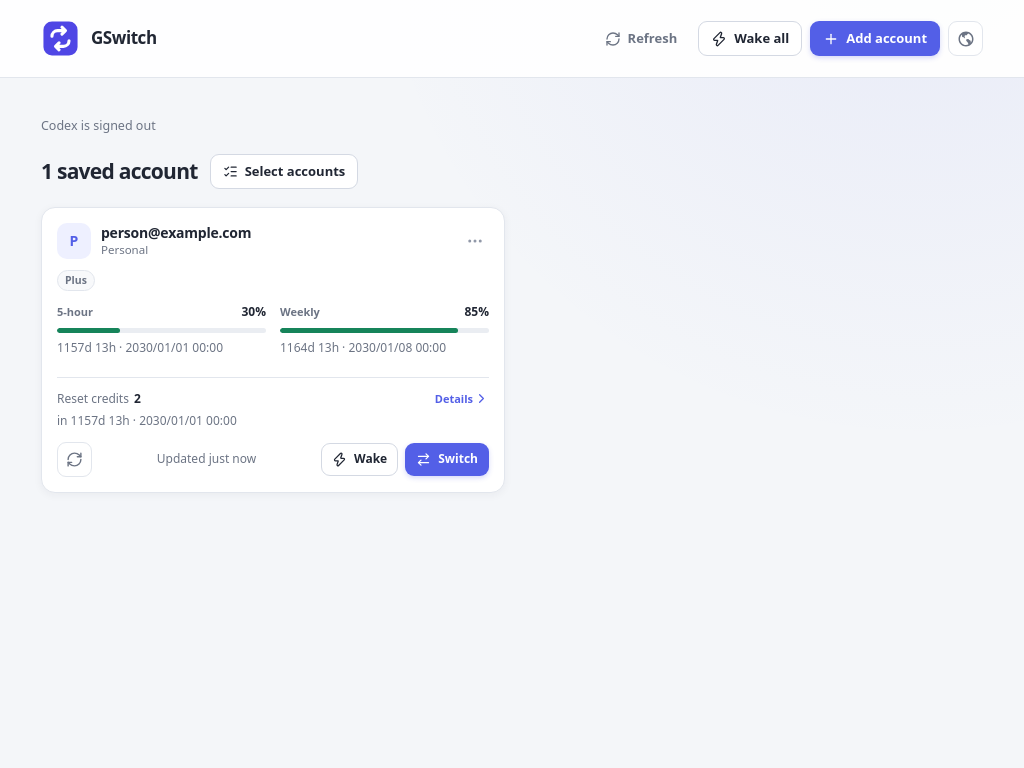
GSwitch account workspace › keeps the reset dialog closable while a full refresh runs
Expected: the heading "person@example.com" is shown, [101,224,251,242]
Step 1. Click the button "Refresh" → {"x": 641, "y": 38}, box [592,21,690,56]
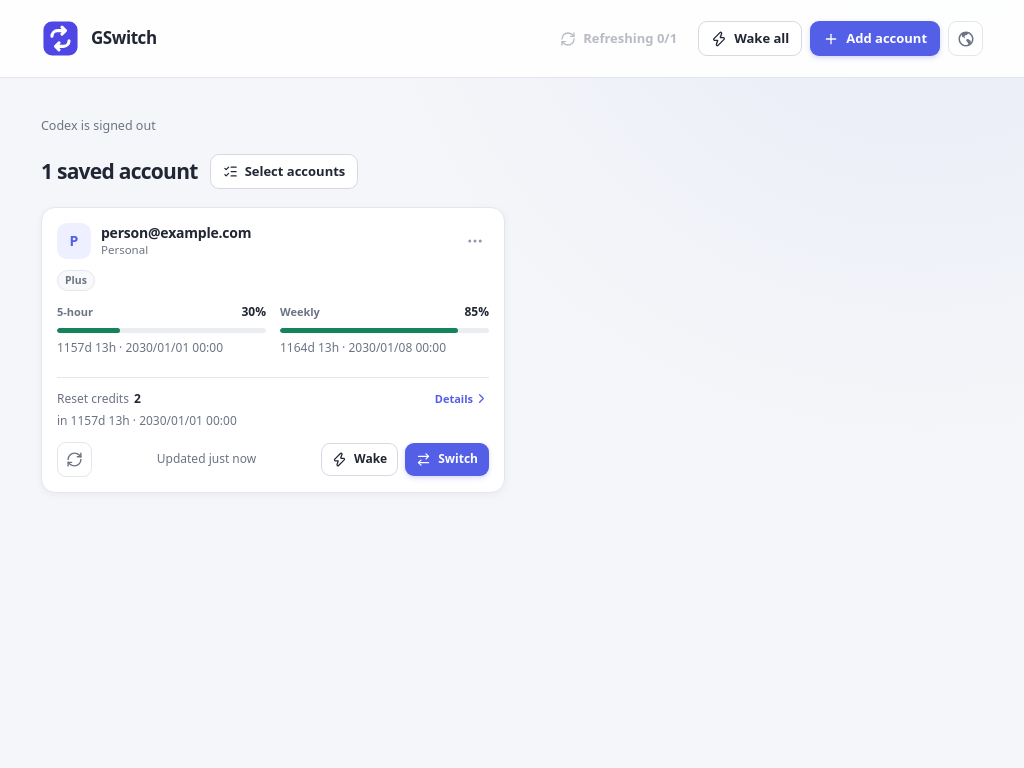
Step 2. Click the button "Details" → {"x": 462, "y": 398}, box [435,391,489,406]
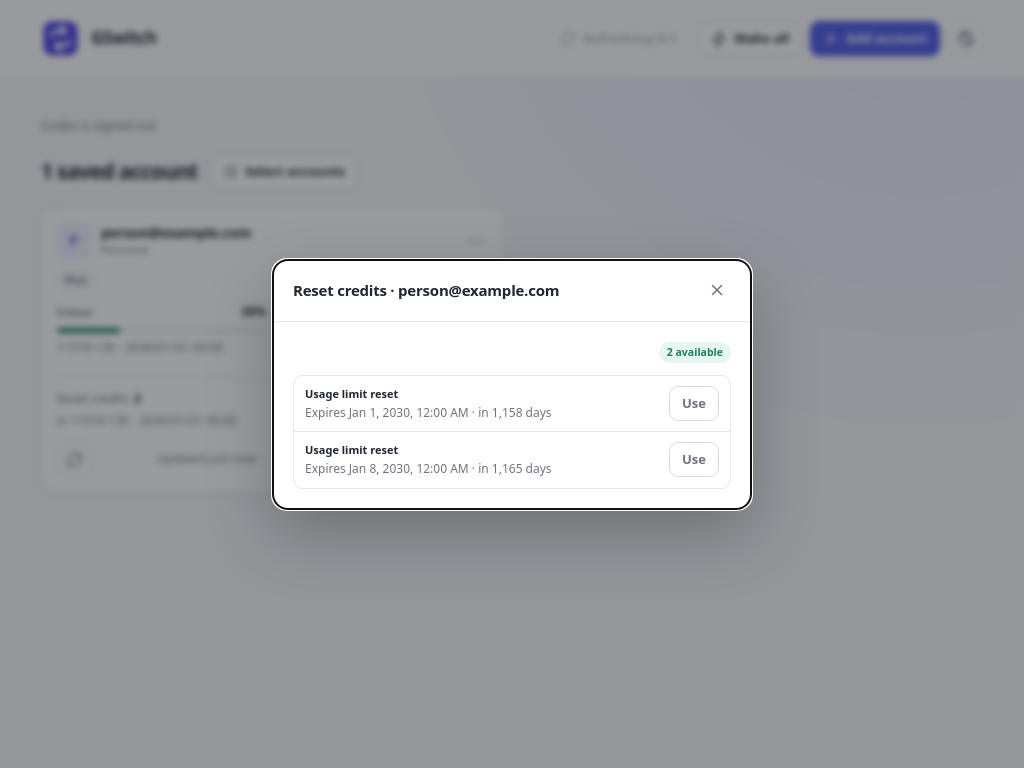
Expected: the button named "Close " is enabled
Step 3. Click the button named "Close " → {"x": 716, "y": 290}, box [702,276,731,304]
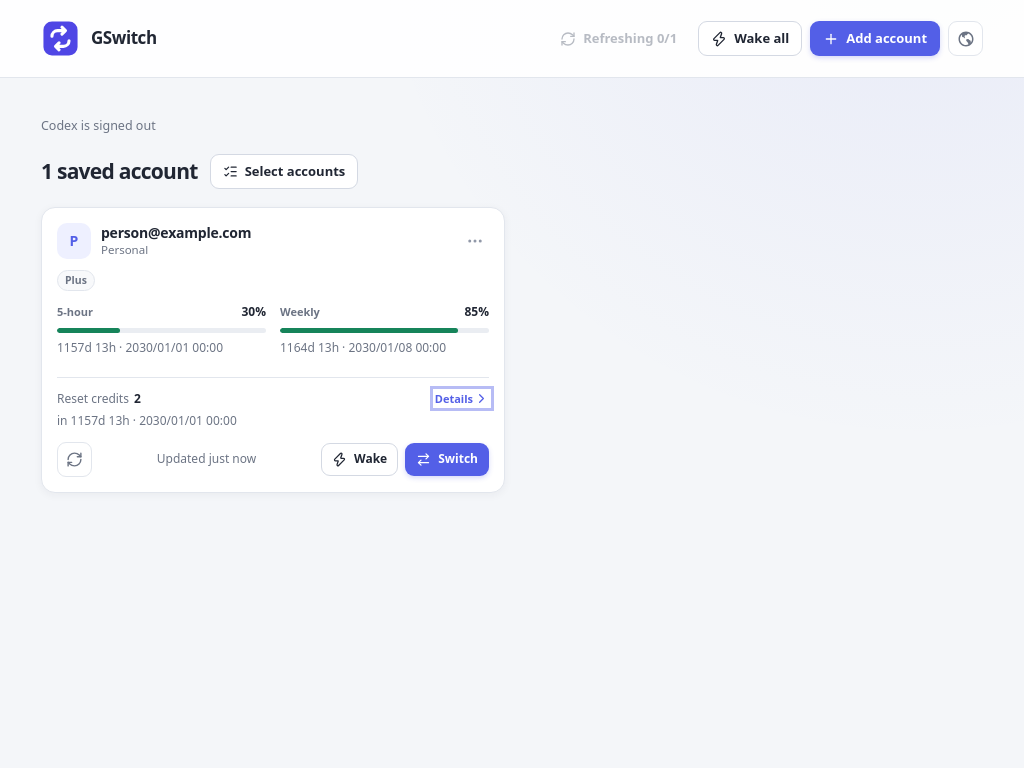
Expected: the dialog is gone
